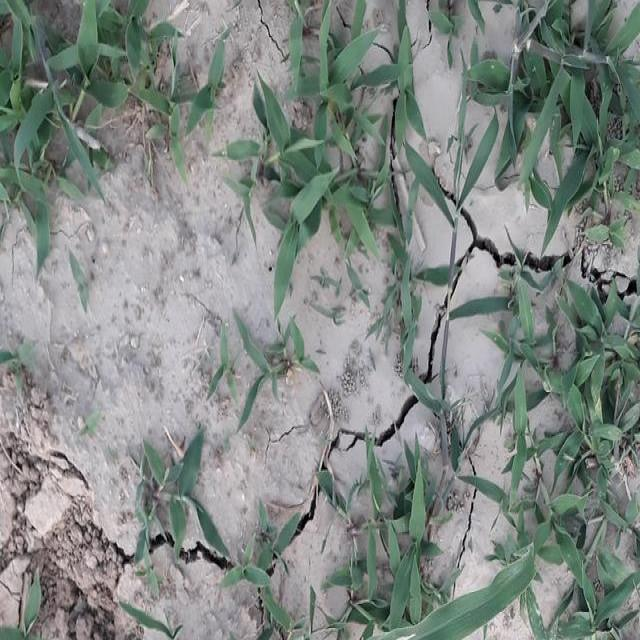weed: (237, 0, 639, 221), (506, 253, 640, 640), (0, 0, 138, 217)
